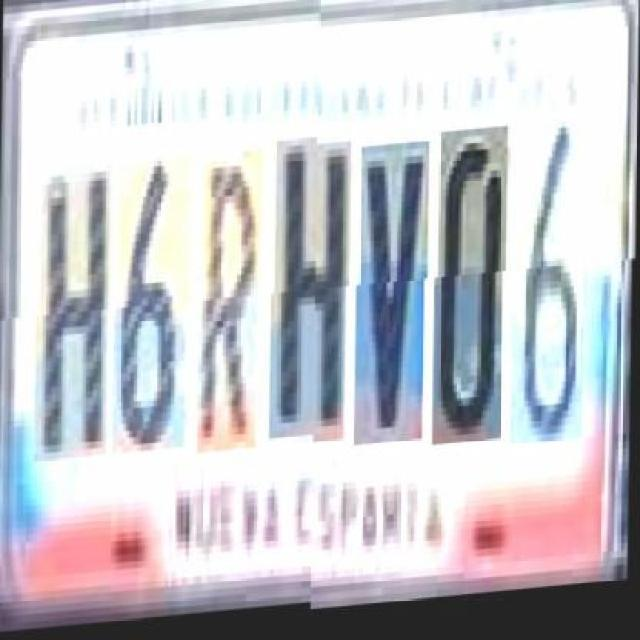0: (436, 136, 509, 455)
6: (515, 130, 590, 455), (117, 167, 192, 464)
h: (273, 147, 352, 451), (38, 173, 114, 470)
r: (202, 162, 262, 464)
v: (359, 150, 430, 452)
